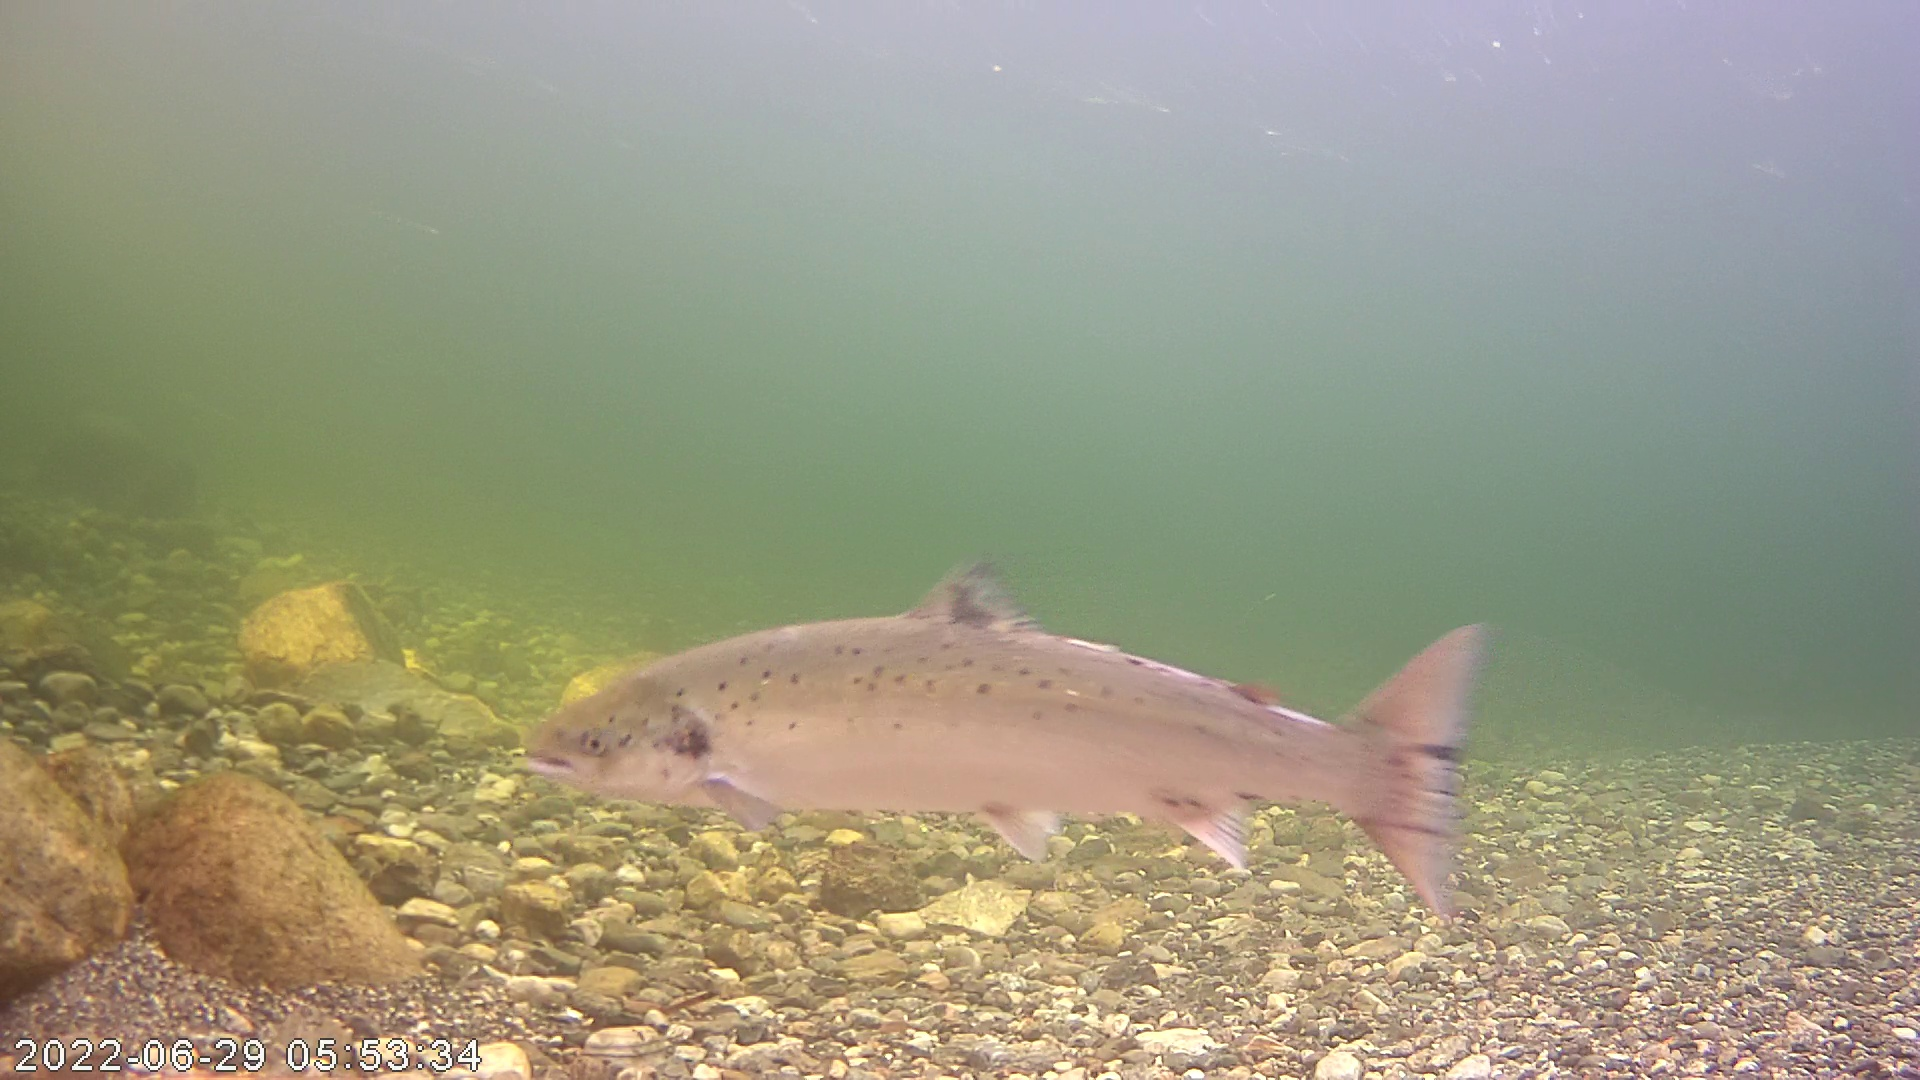salmon: (521, 530, 1489, 898)
